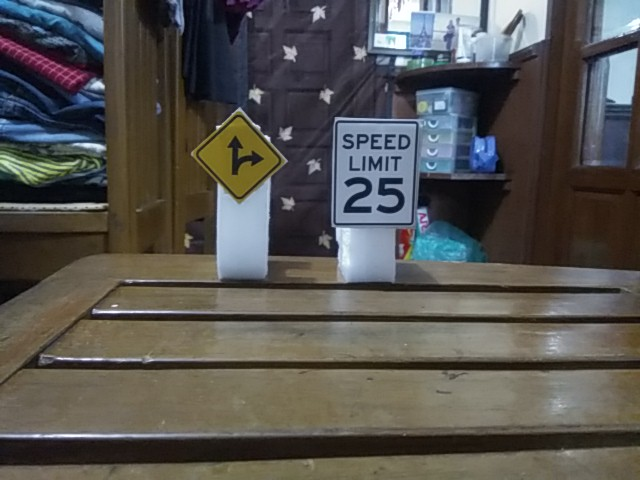Speed Limit 25: (333, 117, 420, 228)
Straight Or Right Sign: (194, 112, 288, 201)
